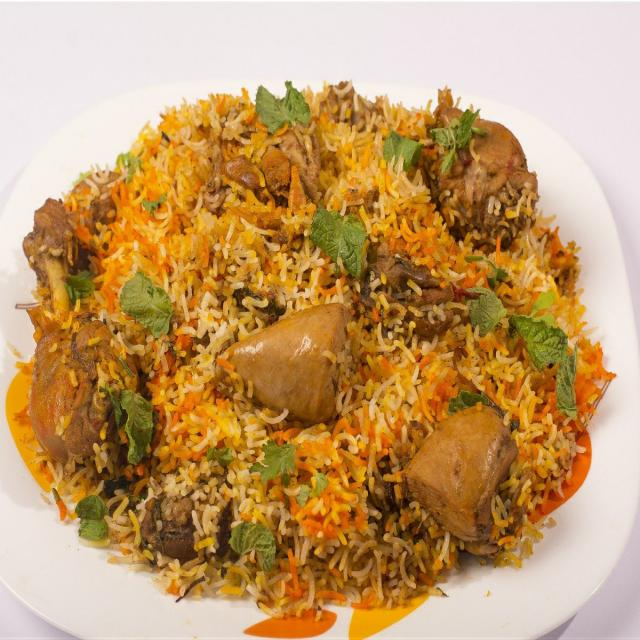Biryani: (16, 79, 617, 622)
